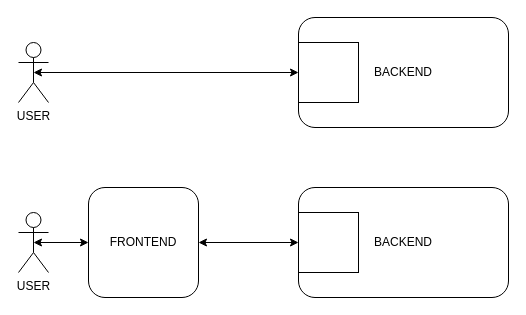
The diagram is 526 pixels wide and 315 high, and some of its shapes have lost their labels. Here are the shapes that lost their labels. From the top down, the centre of each, then its label:
[328,72]: DTL
[328,242]: REST API
